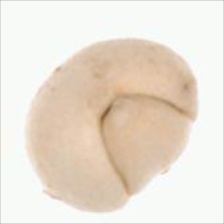L5: (95, 91, 197, 200), (37, 50, 84, 94)
L6: (23, 35, 200, 215)
